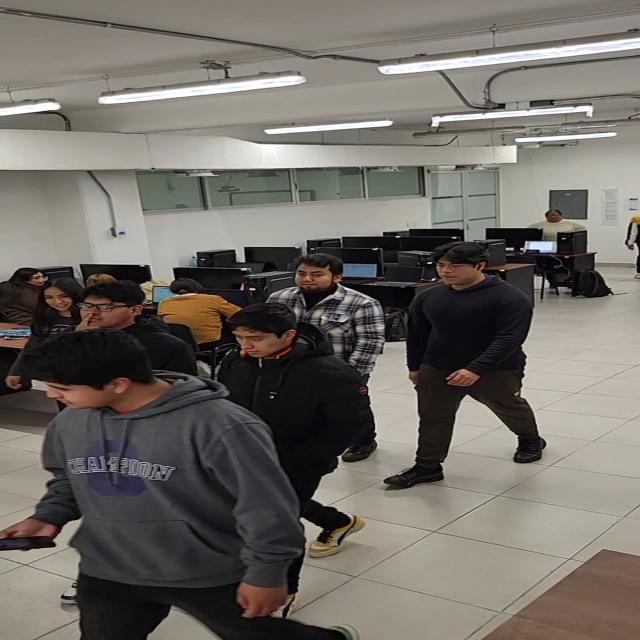Persona: (5, 332, 317, 640), (392, 238, 560, 497), (216, 305, 380, 555), (285, 244, 388, 357), (84, 273, 193, 373), (32, 270, 86, 336)
